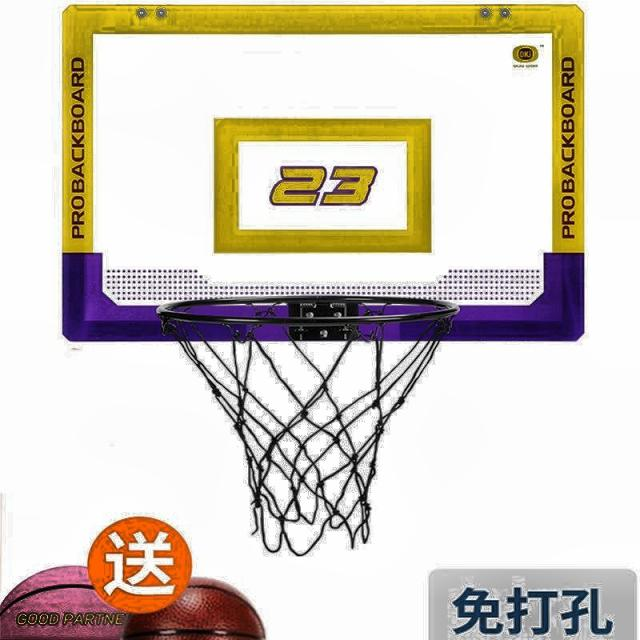rim: (153, 296, 461, 558)
